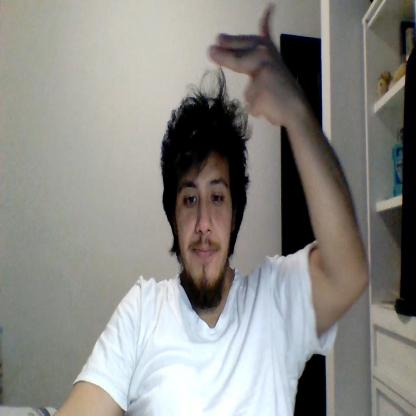H: (208, 2, 288, 126)
